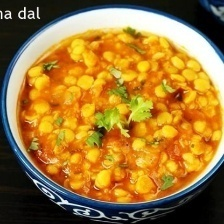dal: (12, 22, 224, 210)
